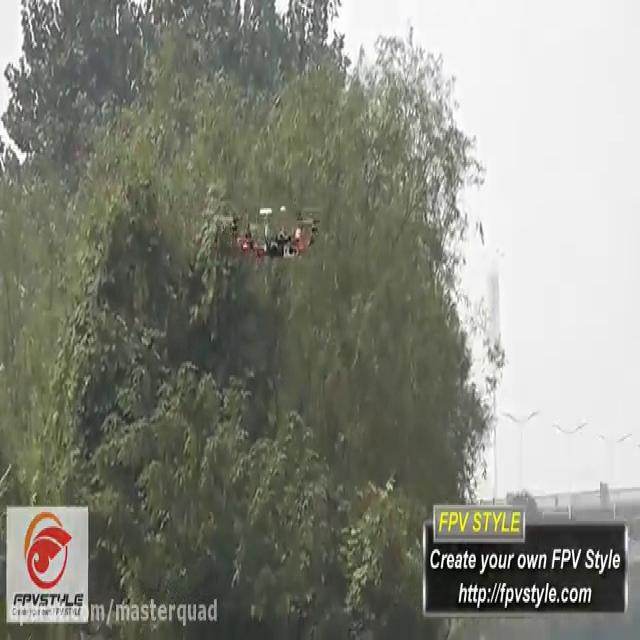drone: (231, 197, 323, 274)
